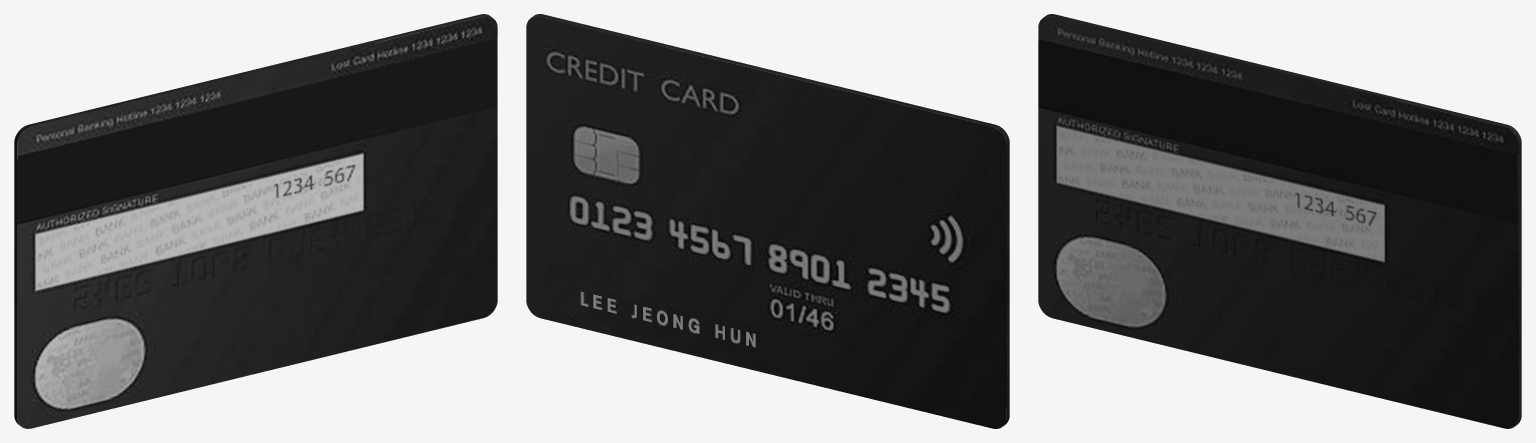
Rendered from card.fbx.
3 views of the same model, side by side, from view 1: azimuth 30°, elevation 25°; view 2: azimuth 150°, elevation 25°; view 3: azimuth 330°, elevation 25° (orthographic).
Visible parts, largest first — view 1: pCube1; view 2: pCube1; view 3: pCube1.
Part boxes in pixels (bbox=[...]): pCube1: bbox=[14, 14, 497, 428]; pCube1: bbox=[526, 14, 1009, 428]; pCube1: bbox=[1038, 14, 1521, 428].
Size of the model in its own units: 5 by 3 by 0.05.
Materials: 1 (1 with a texture image).
